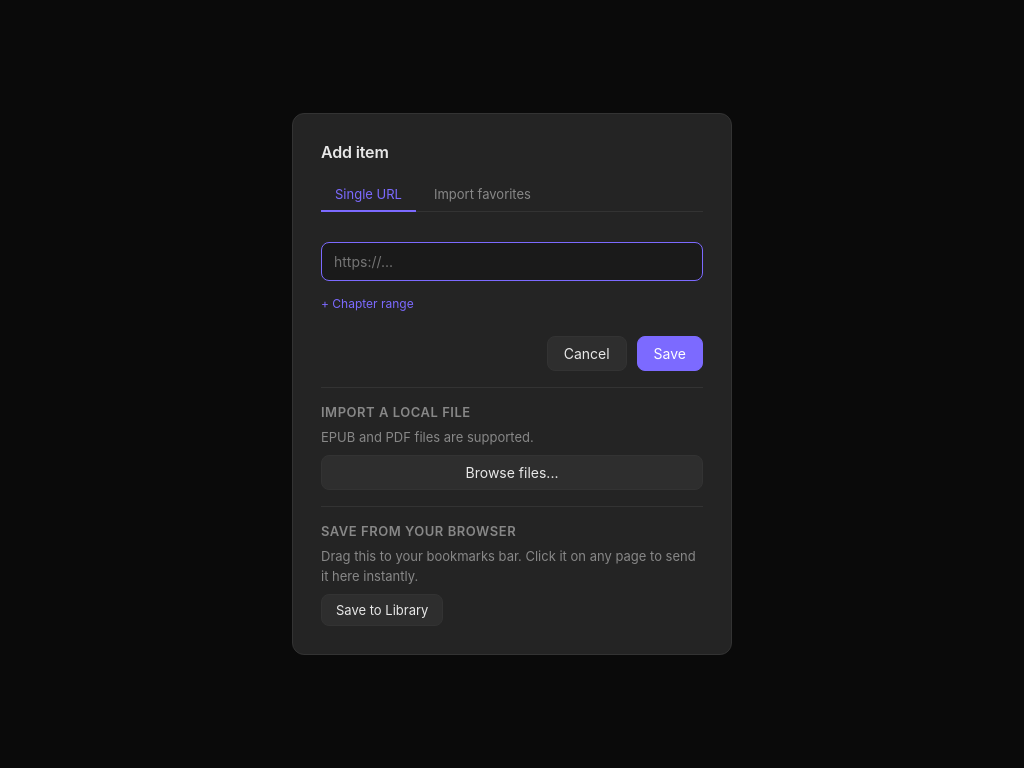
Test: AddItemModal — file import › errors when the saved item cannot be retrieved
Click the button "Browse files...": (512, 473) [321,455,703,490]
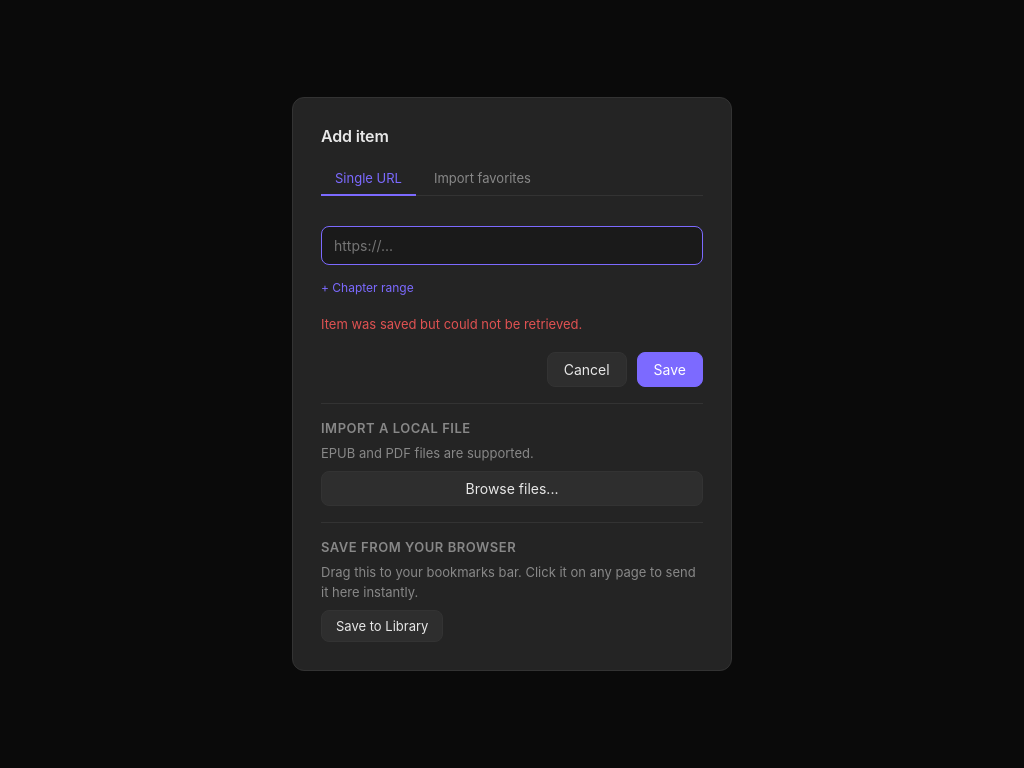
Result: the text "Item was saved but could not be retrieved." is shown at [321,316,582,332]
